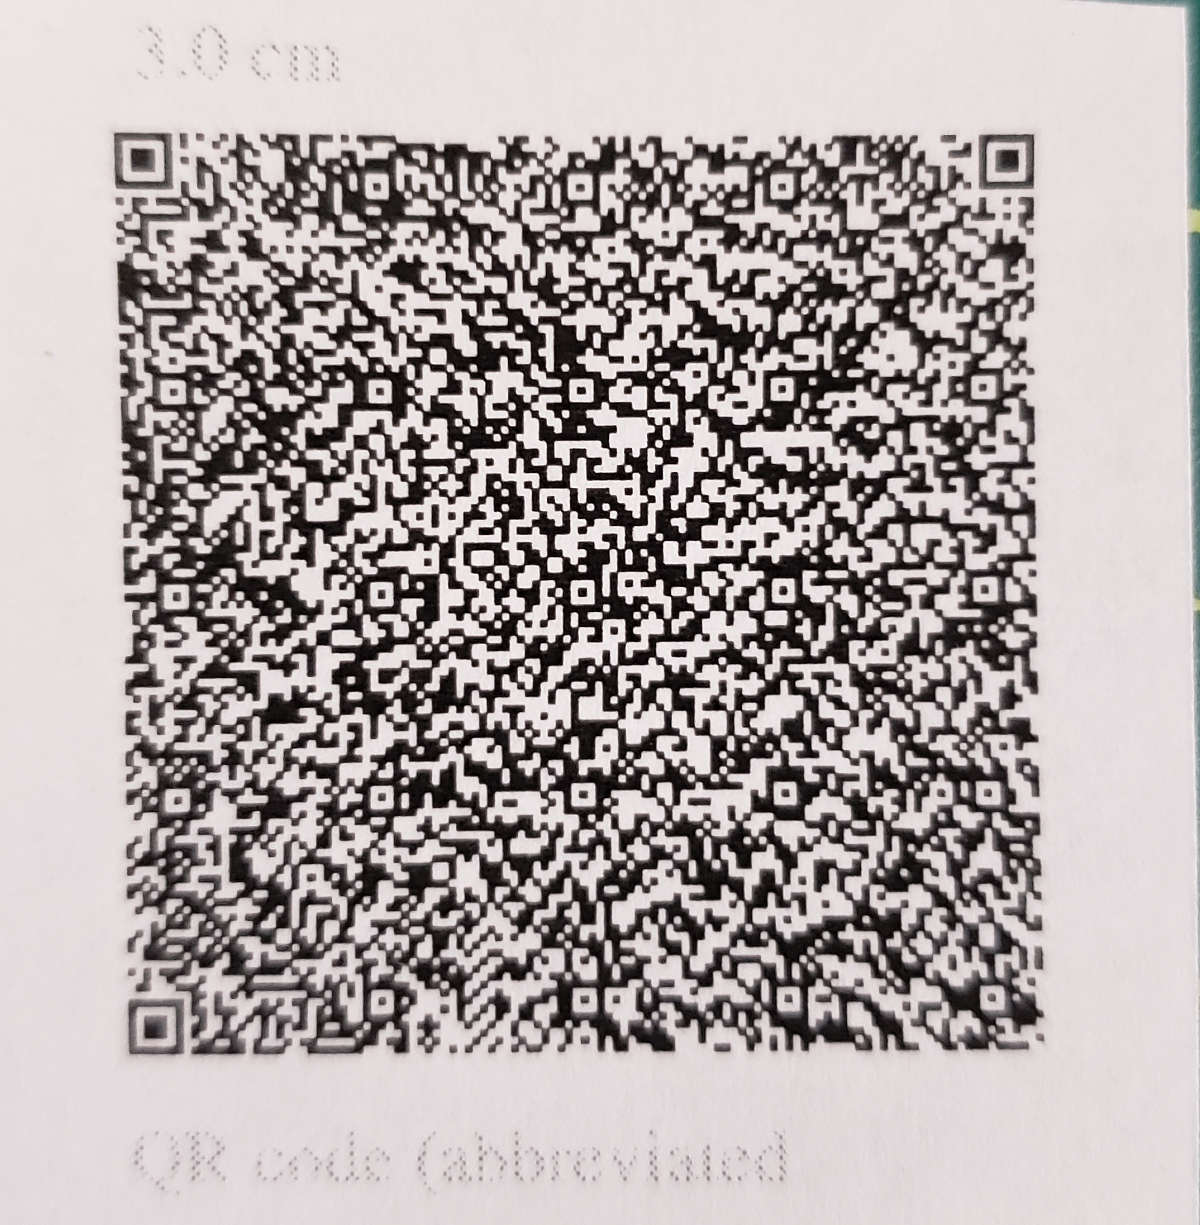QR_CODE: (73, 77, 1077, 1106)
